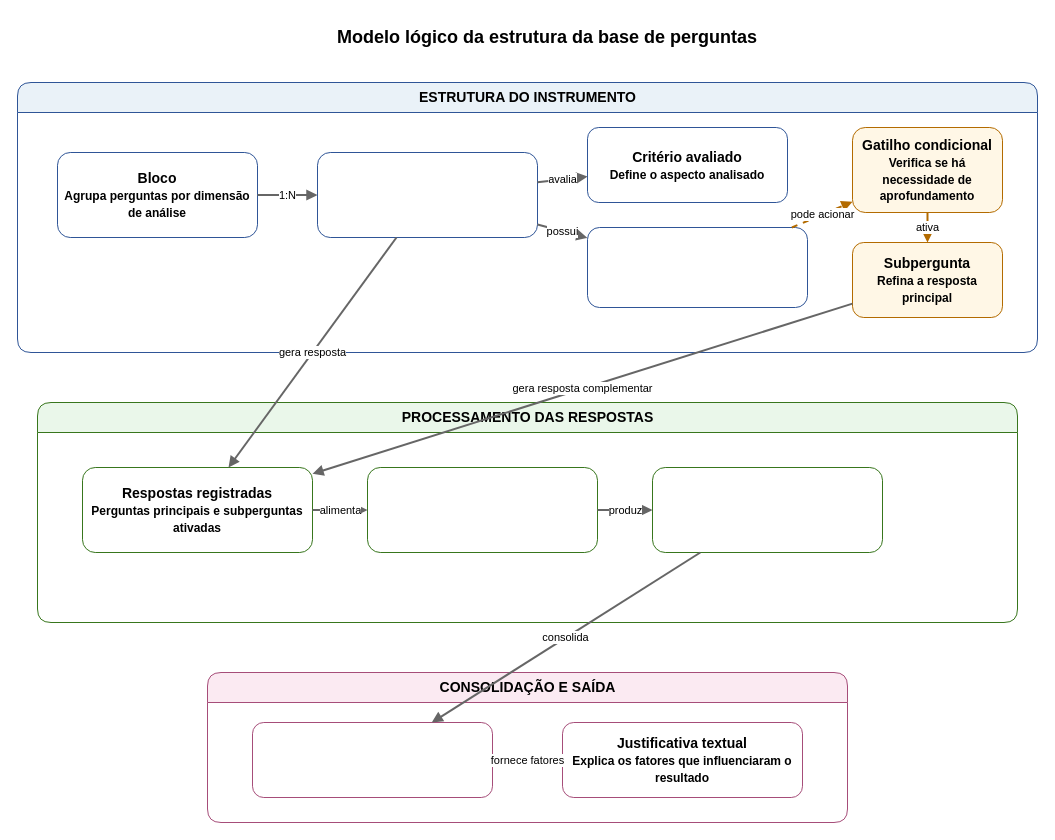
This 1055x840 diagram has some shape labels left out. The centre of each missing label's shape, as x and y in pixels:
"Alternativas Opções de resposta e tendência lógica" belongs at (697,267).
"Perfil final Conservador, Moderado ou Arrojado" belongs at (372,760).
"Pergunta principal Coleta uma informação essencial" belongs at (427,195).
"Regras de classificação Interpretam respostas e aplicam condições" belongs at (482,509).
"Resultados intermediários Perfil preliminar e limites dos blocos" belongs at (767,509).
